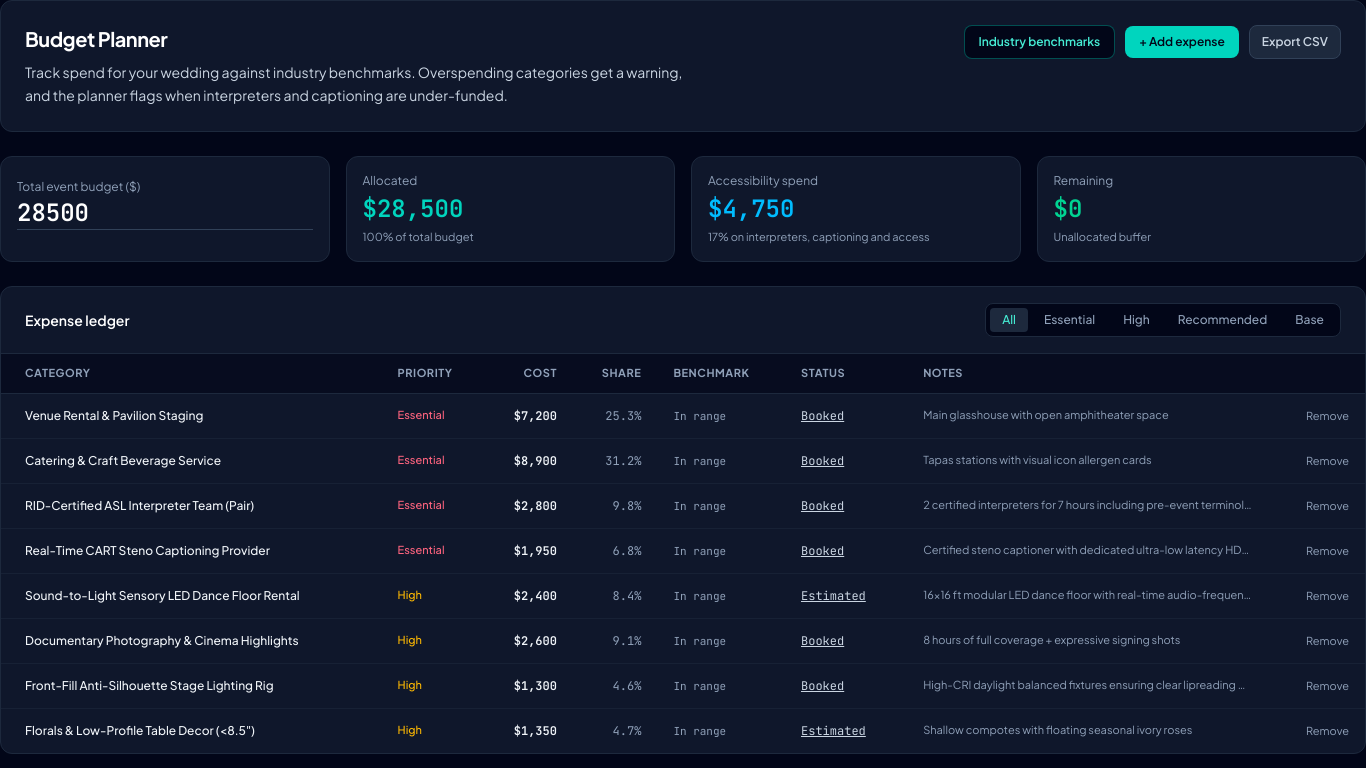
Test case: BudgetPlanner › warns when accessibility is under-funded after the total budget grows
Replace the text in the number field labelled "Total event budget ($)" with "500000" at (165, 213), box [17,196,312,230]
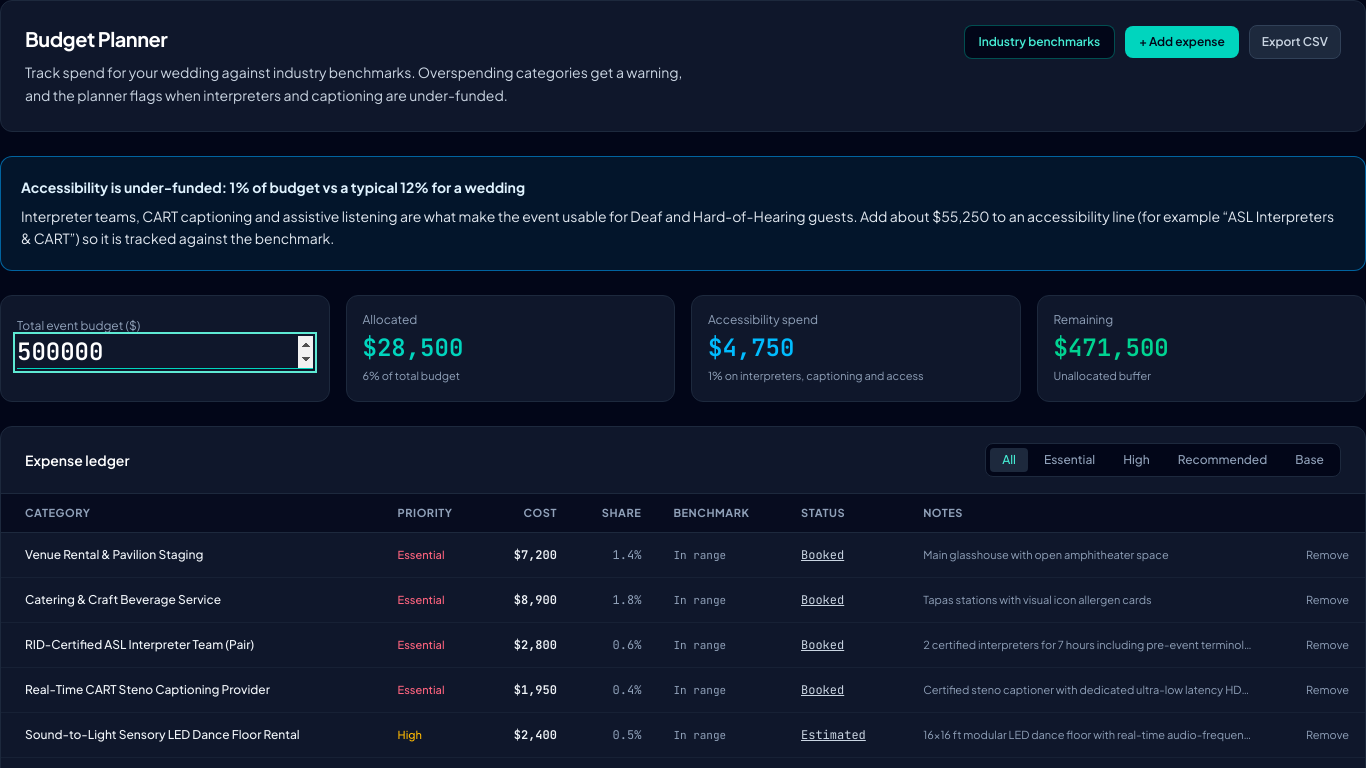
expect the heading "Accessibility is under-funded" is shown: met, box [21,178,230,196]
